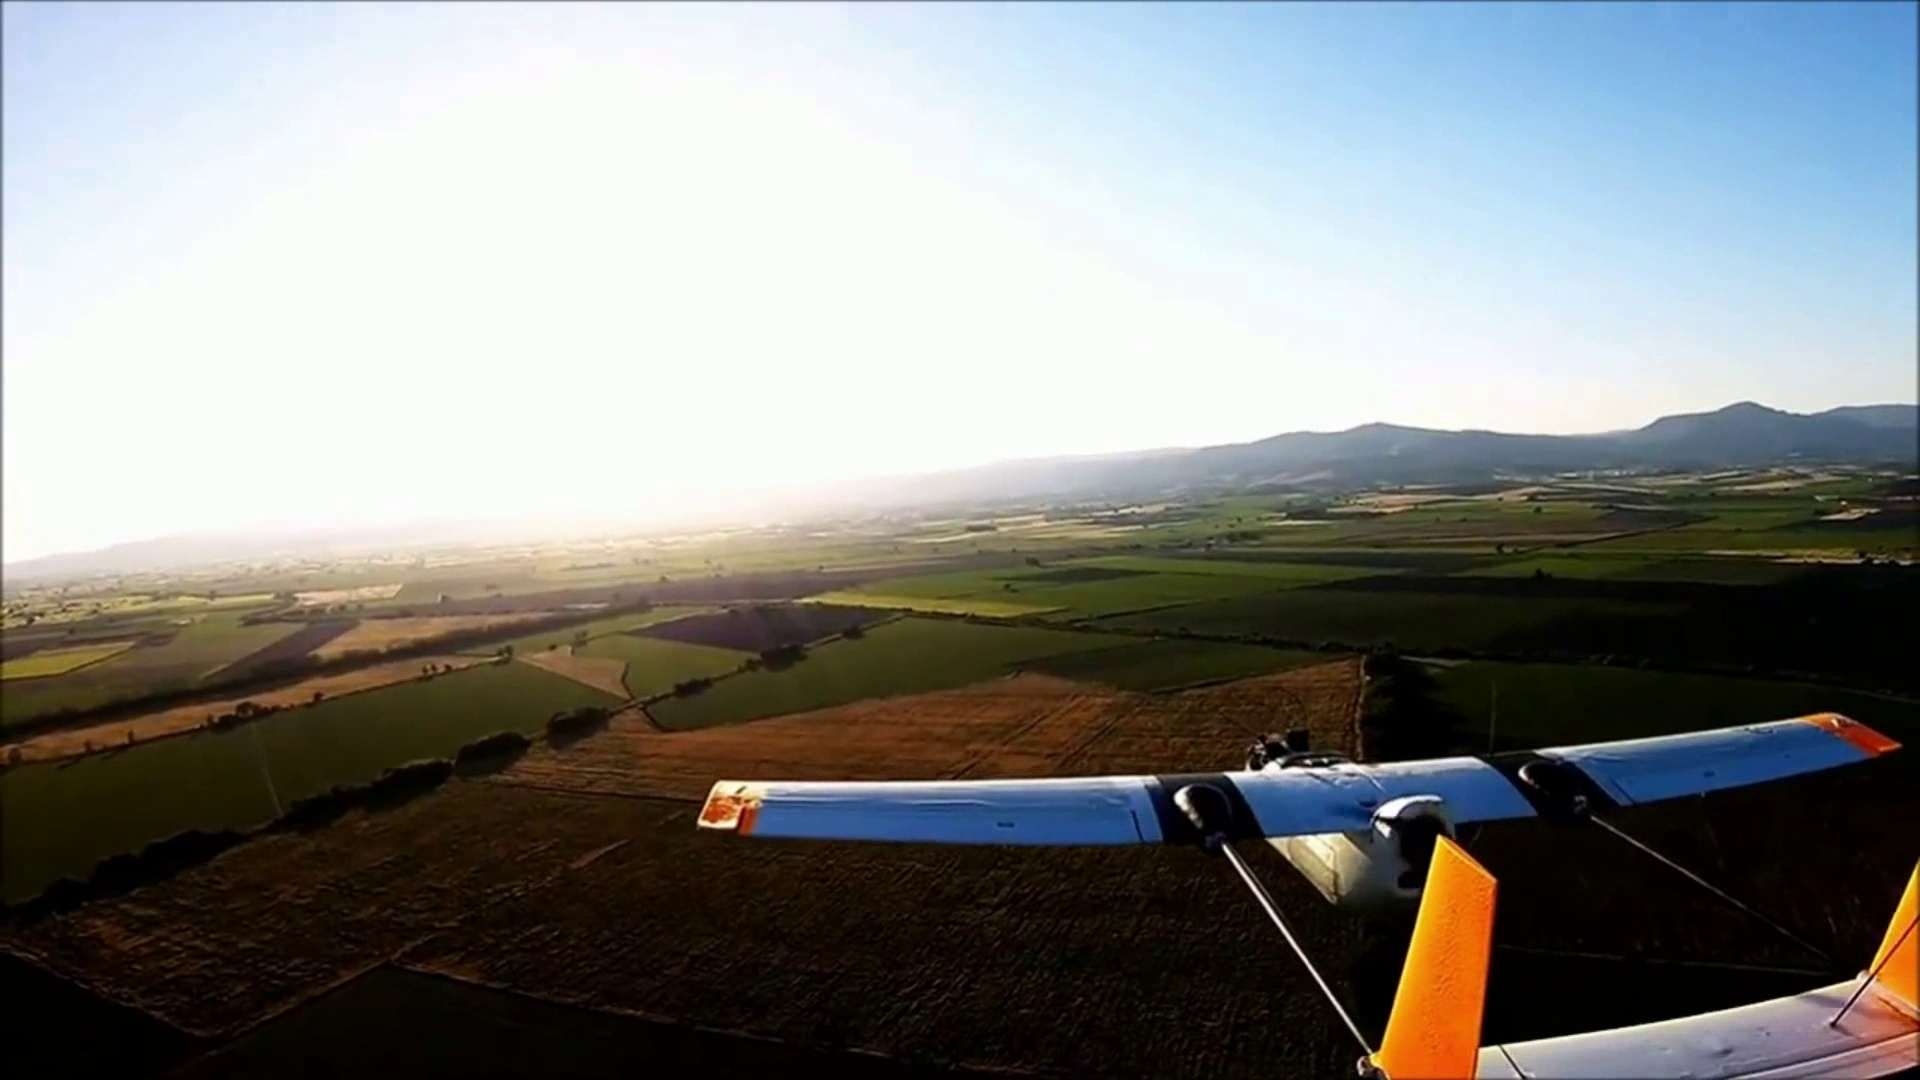airplane: (698, 713, 1916, 1069)
